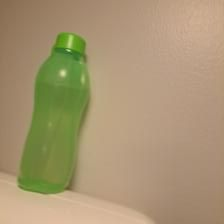bottle: (19, 31, 94, 196)
